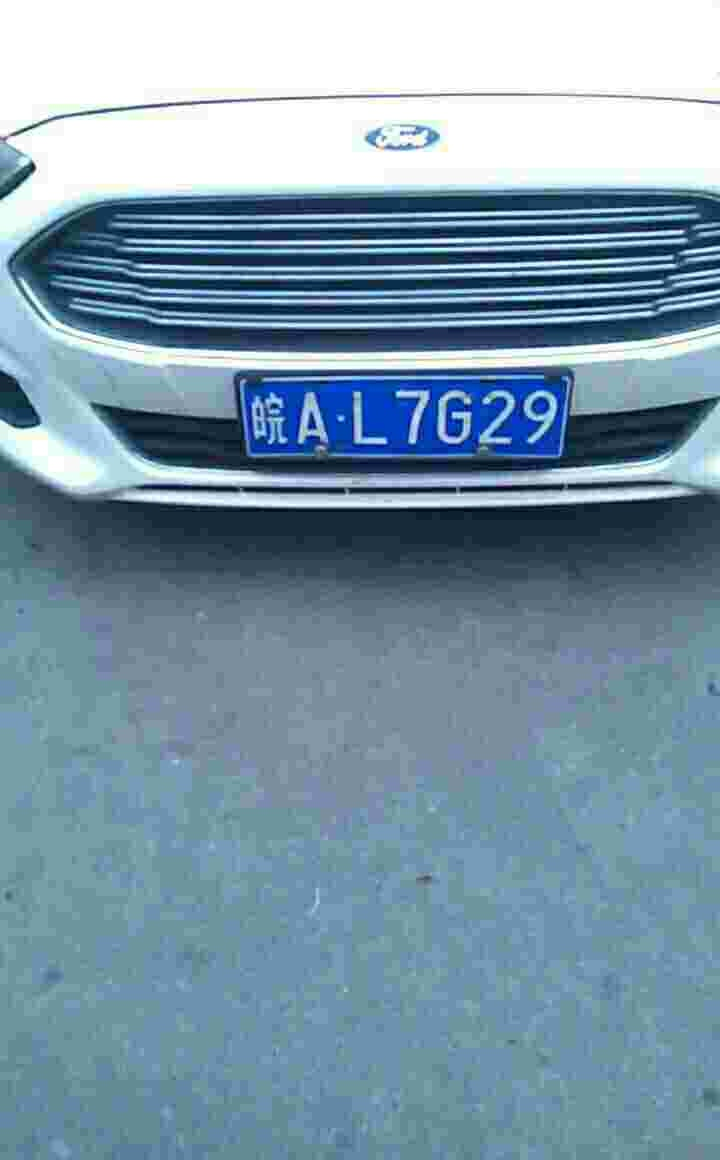license_plate: (231, 368, 568, 449)
